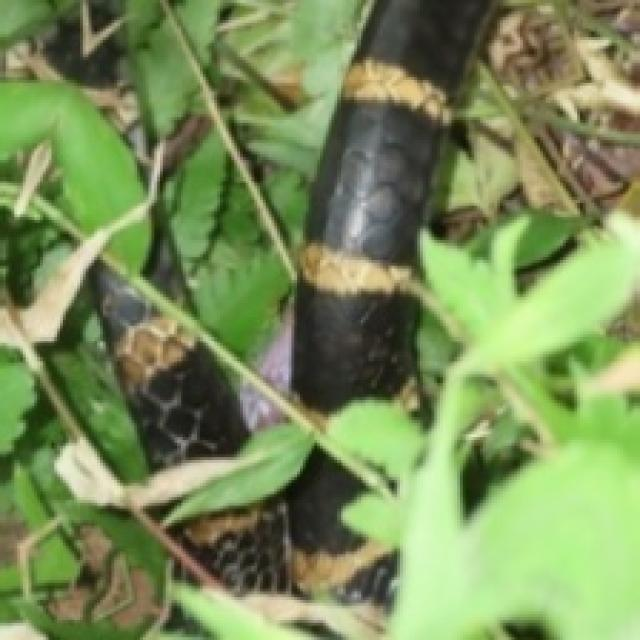king cobra: (129, 0, 491, 409), (286, 451, 357, 551)
